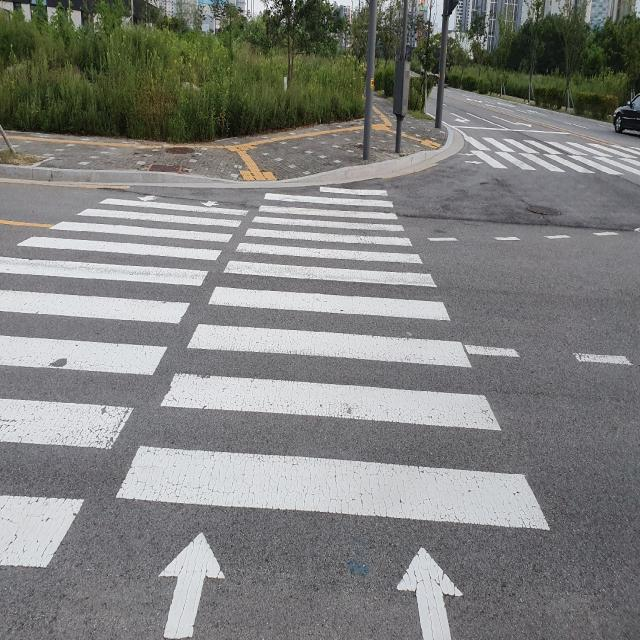횡단보도: (0, 183, 552, 639), (460, 123, 640, 177)
